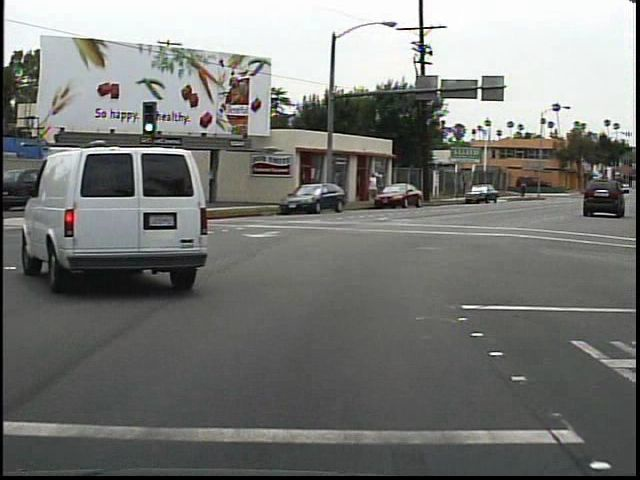person: (364, 170, 382, 208), (517, 177, 529, 200)
